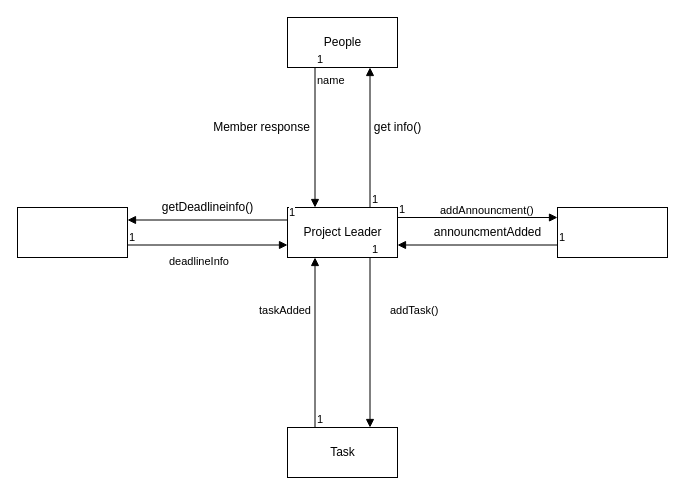
The diagram is 685 pixels wide and 495 high, and some of its shapes have lost their labels. Each missing label, with the box of its shape:
Announcment: (556, 206, 668, 258)
Deadline: (16, 206, 128, 258)
